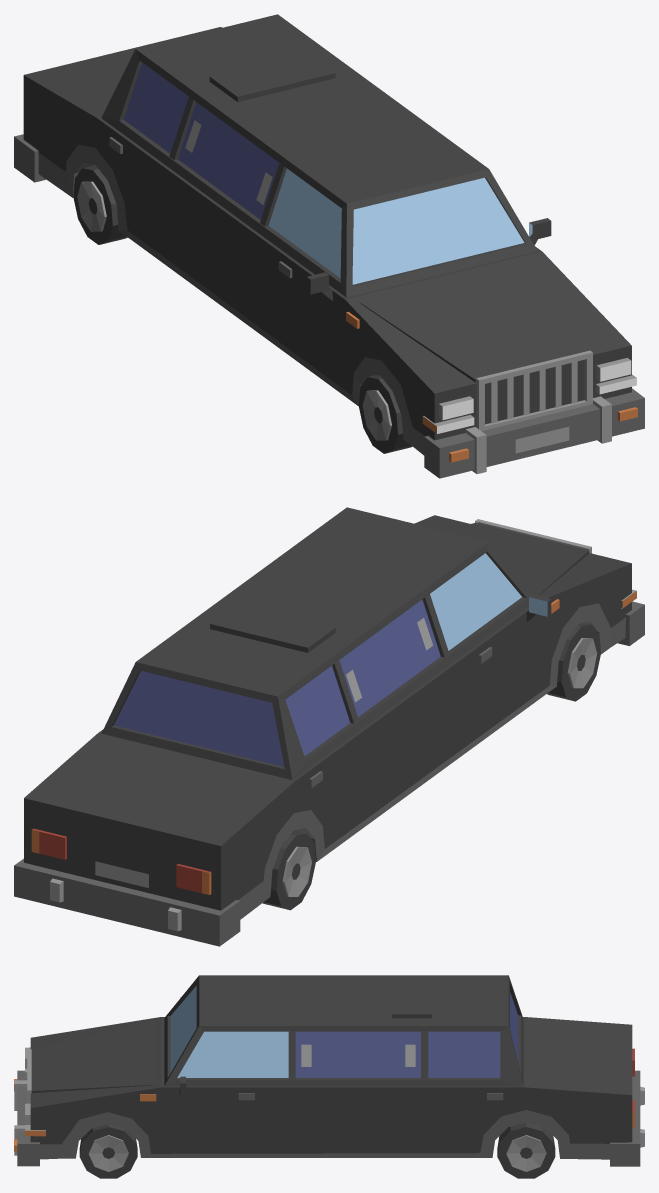
File: transport_cool_006.glb
The picture shows the model from 3 angles, top to bottom: view 1: azimuth 30°, elevation 25°; view 2: azimuth 150°, elevation 25°; view 3: azimuth 270°, elevation 25°; orthographic projection. The views are drawn at different scales.
Parts seen in each view (by area): view 1: transport_cool_006; view 2: transport_cool_006; view 3: transport_cool_006.
Part boxes in pixels (x1,y1,x2,y2): transport_cool_006: (14, 14, 644, 478); transport_cool_006: (14, 507, 644, 946); transport_cool_006: (14, 975, 644, 1178).
Size of the model in its own units: 1.48 by 1.17 by 4.58.
1 material, 1 textured.
